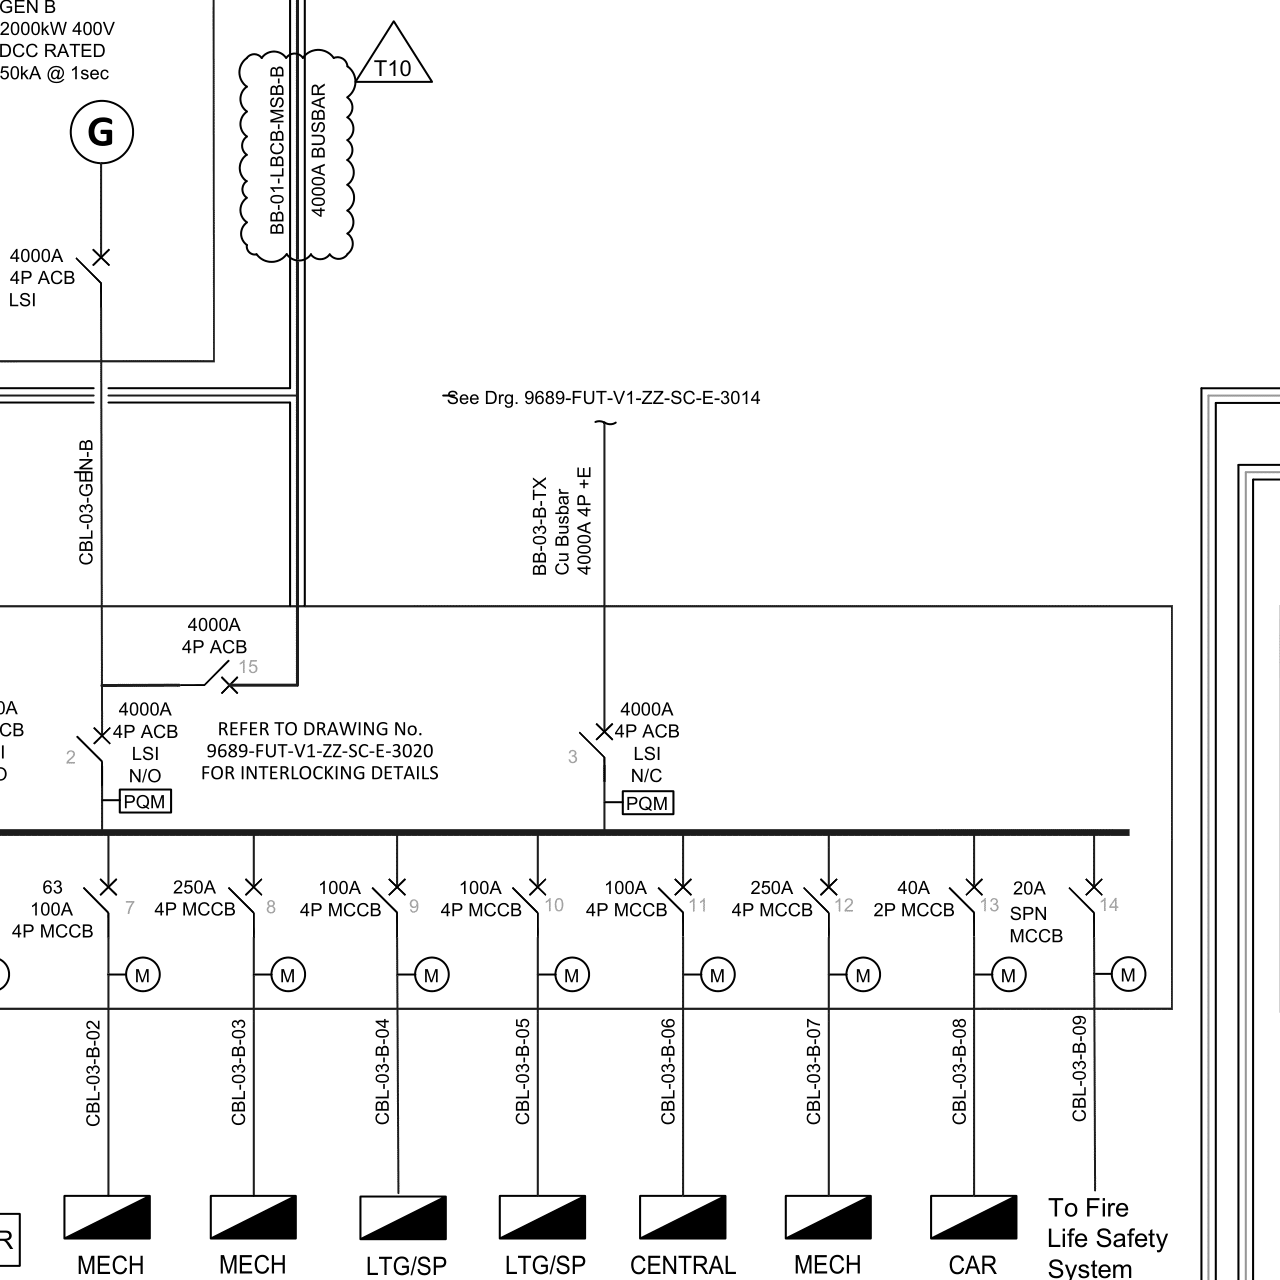Distribution Board: (348, 1182, 457, 1252), (775, 1183, 881, 1250), (200, 1187, 305, 1250), (920, 1190, 1030, 1247), (491, 1187, 598, 1246), (54, 1191, 162, 1248), (632, 1187, 731, 1246)
Generator: (60, 98, 144, 170)
